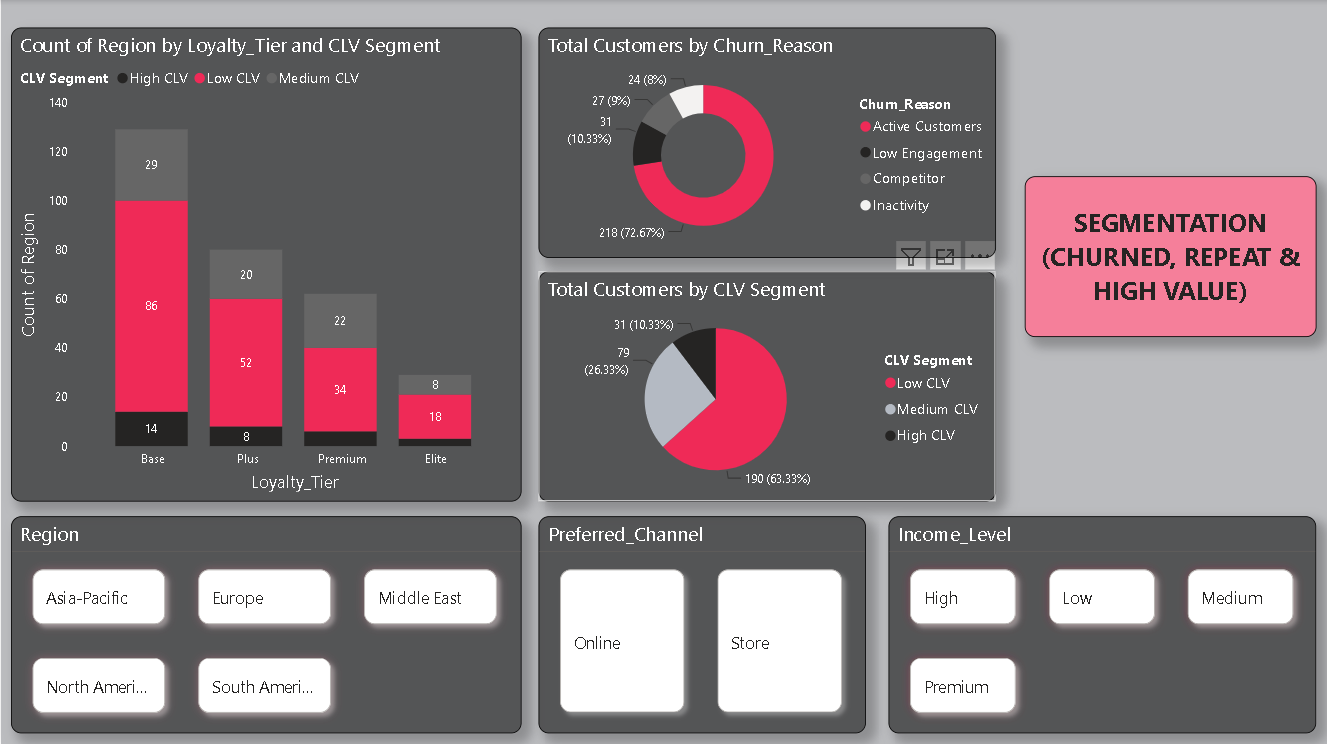

Layout of this report page (visuals, bound fields, positions):
{"tool":"powerbi","page":{"name":"Segmentation (Churned, Repeat, High-Value)","canvas":[1280,720],"ordinal":8},"visuals":[{"type":"columnChart","fields":{"Category":["Loyalty_Program.Loyalty_Tier"],"Y":["CountNonNull(Customer_Demographics.Region)"],"Series":["Customer_Demographics.CLV Segment"]},"box":[9.8,26.9,492.8,457.3],"z":1000},{"type":"pieChart","fields":{"Y":["All Measures.Total Customers"],"Category":["Customer_Demographics.CLV Segment"]},"box":[518.5,261.7,441.4,222.6],"z":2000},{"type":"donutChart","fields":{"Category":["Churn_Labelled_Customers.Churn_Reason"],"Y":["All Measures.Total Customers"]},"box":[518.5,26.9,441.4,222.6],"z":3000},{"type":"advancedSlicerVisual","fields":{"Values":["Store_Locations.Region"]},"box":[9.6,498.1,492.6,209.9],"z":4000},{"type":"advancedSlicerVisual","fields":{"Values":["Customer_Demographics.Preferred_Channel"]},"box":[518.7,498.1,315.6,209.9],"z":5000},{"type":"advancedSlicerVisual","fields":{"Values":["Customer_Demographics.Income_Level"]},"box":[856.3,498.1,413,209.9],"z":6000},{"type":"textbox","box":[988,170,281.3,155.3],"z":6001}]}

Visuals, with their boxes in screenshot pixels (x1, y1, x2, y2), scaled from the page's 1280x720 canvas onto the 1327x744 screenshot:
columnChart - Loyalty_Program.Loyalty_Tier x CountNonNull(Customer_Demographics.Region): locate(10, 28, 521, 500)
pieChart - All Measures.Total Customers x Customer_Demographics.CLV Segment: locate(538, 270, 995, 500)
donutChart - Churn_Labelled_Customers.Churn_Reason x All Measures.Total Customers: locate(538, 28, 995, 258)
advancedSlicerVisual - Store_Locations.Region: locate(10, 515, 521, 732)
advancedSlicerVisual - Customer_Demographics.Preferred_Channel: locate(538, 515, 865, 732)
advancedSlicerVisual - Customer_Demographics.Income_Level: locate(888, 515, 1316, 732)
textbox: locate(1024, 176, 1316, 336)
